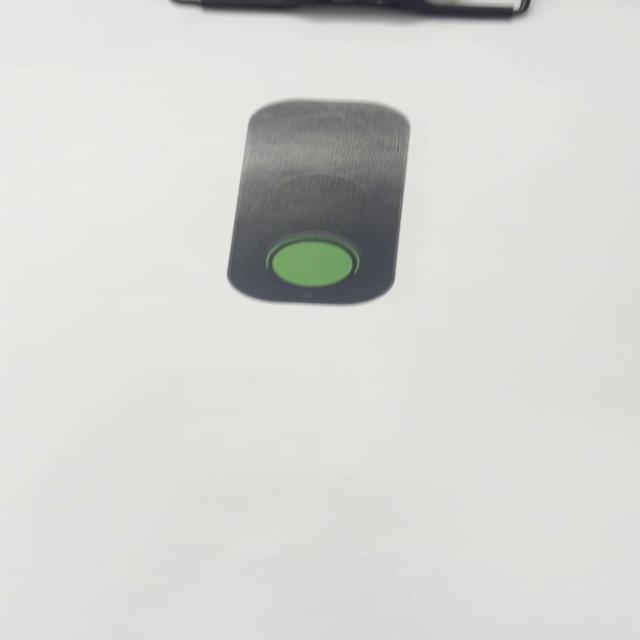green: (237, 99, 404, 306)
